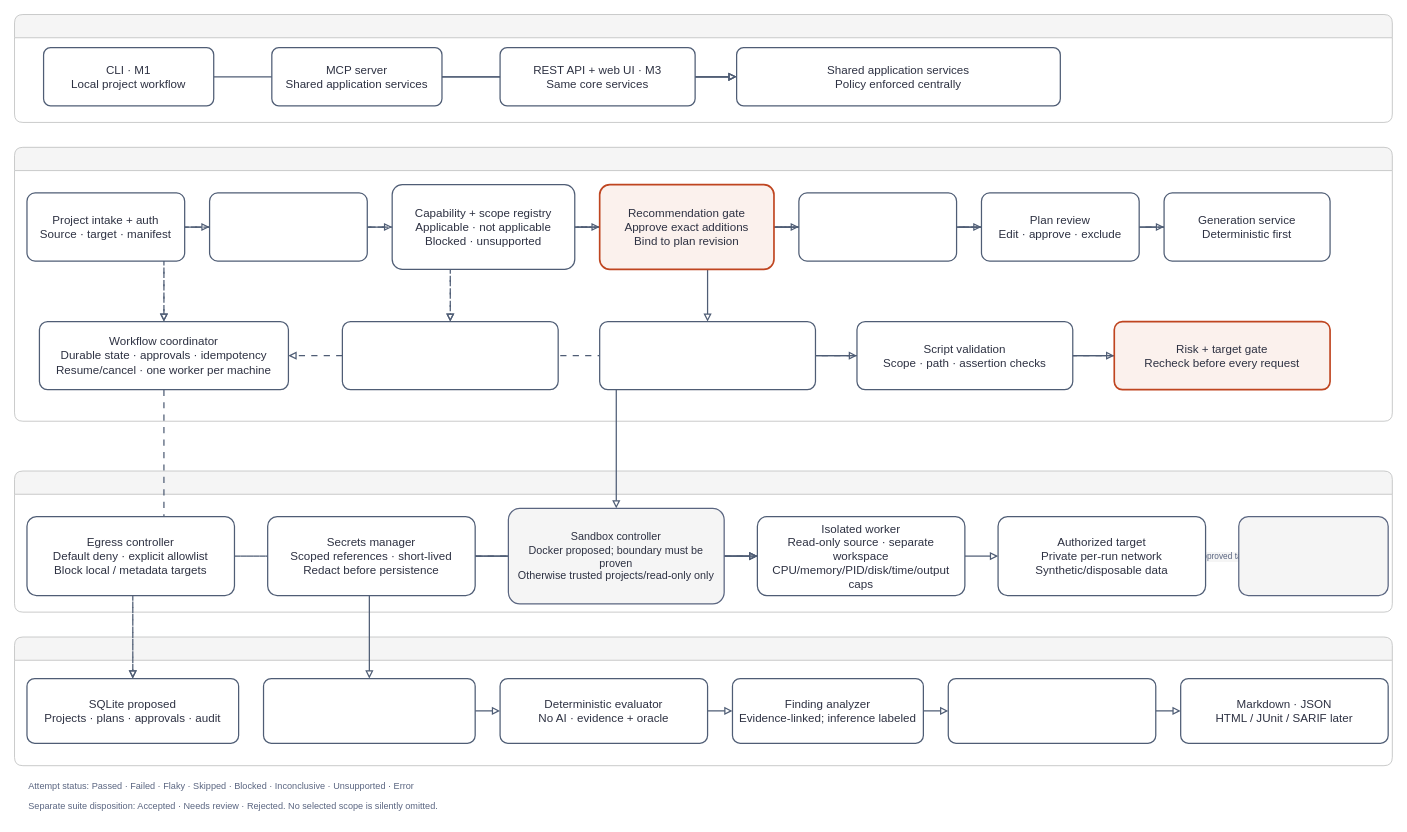
The diagram is 1407 pixels wide and 832 high, and some of its shapes have lost their labels. The box of each missing label's shape, as (x1, y1, x2, y2) in pixels:
Adapter registry Verified tools · versions · capabilities: (599, 321, 816, 390)
APPLICATION CONTROL PLANE · TRUSTED LOGIC: (14, 146, 1392, 421)
Denied route Host / redirect blocked: (1238, 516, 1388, 596)
EVIDENCE, EVALUATION, AND PERSISTENCE: (14, 636, 1392, 766)
EXECUTION BOUNDARY · UNTRUSTED PROJECT CODE: (14, 470, 1392, 612)
Inspector Project facts · APIs · tests: (209, 192, 368, 261)
Local evidence store proposed Content-addressed artifacts: (263, 678, 475, 744)
Neutral planner Oracle · risk · limits: (798, 192, 957, 261)
Optional AI gateway Local first · schema-validated AI-off path remains usable: (341, 321, 558, 390)
Report composer Domain + consolidated: (947, 678, 1156, 744)
USER INTERFACES: (14, 14, 1392, 122)
